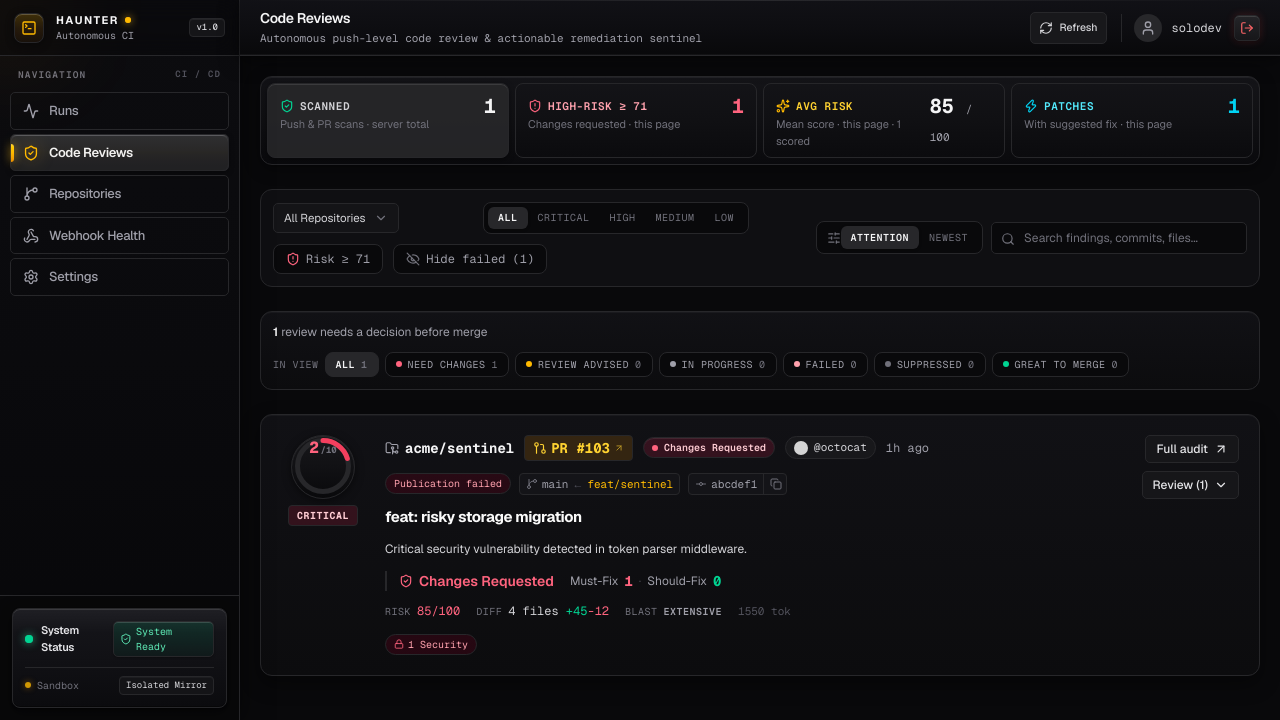
Test case: ReviewsPage (app/reviews/page.tsx) › publish failures (saved audit, GitHub publish failed) › overview renders the saved audit with verdict + Publication failed badge, never the error card
Expected: the text "PR #103" is shown, x1=551 y1=438 x2=610 y2=458
Expected: the text "Publication failed" is shown, x1=385 y1=473 x2=511 y2=494
Note: The findings are expandable and intact — nothing was hidden.
Click the button "Review (1)" at (1190, 485), box x1=1142 y1=471 x2=1239 y2=499
(page scrolled)
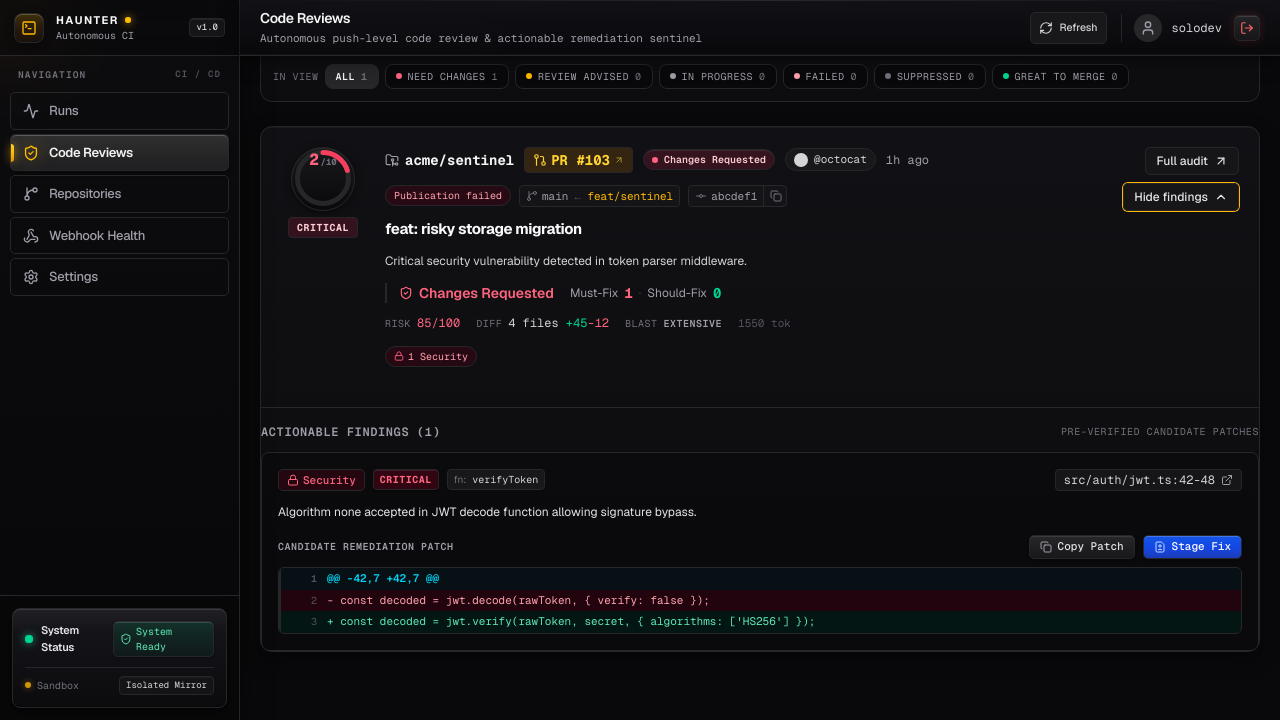
Result: the text "Actionable Findings (1)" is shown at x1=261 y1=424 x2=440 y2=440
Result: the text "jwt.verify" is shown at x1=327 y1=614 x2=815 y2=628
